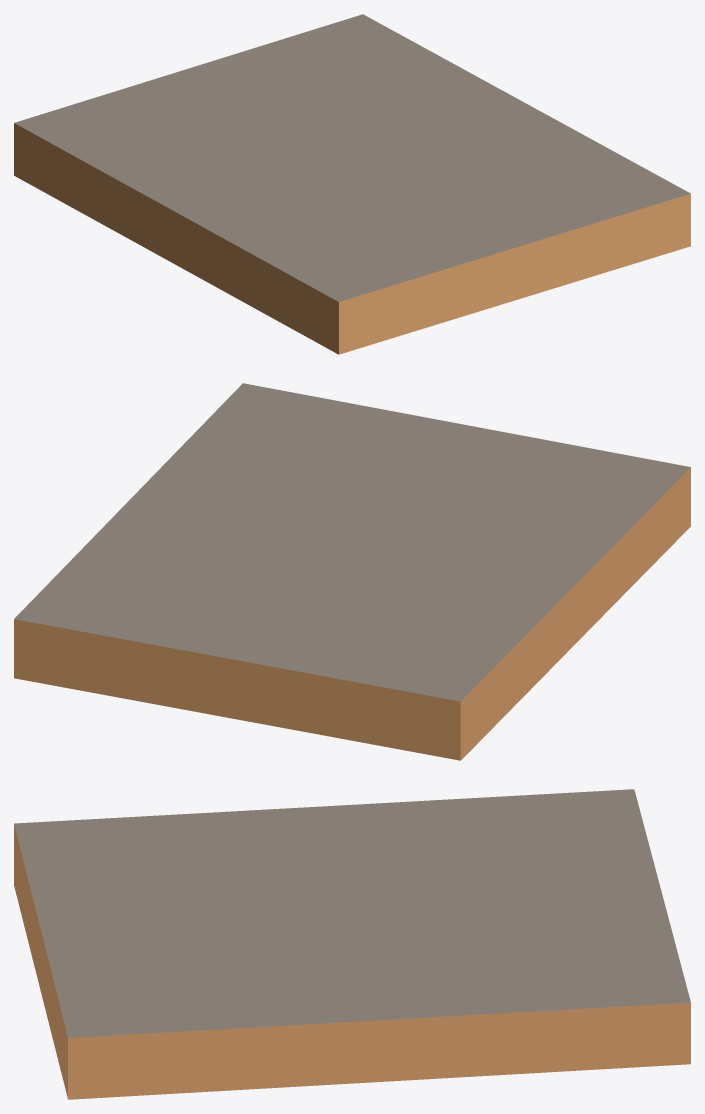
Rendered from havan.fbx.
3 renders of one model, top to bottom at view 1: azimuth 30°, elevation 25°; view 2: azimuth 150°, elevation 25°; view 3: azimuth 270°, elevation 25°, orthographic. The views are drawn at different scales.
Visible parts, largest first — view 1: Havan; view 2: Havan; view 3: Havan.
Boxes of the visible parts, x1=… form: Havan: x1=14, y1=14, x2=690, y2=354; Havan: x1=14, y1=383, x2=690, y2=760; Havan: x1=14, y1=789, x2=690, y2=1099.
Bounding box in the file's own units: 138 × 15.95 × 159.
